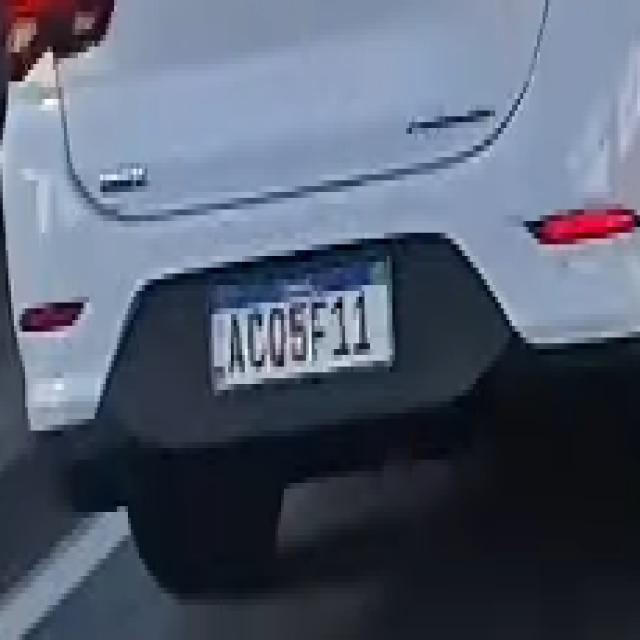Placa_mercosul_carro: (210, 254, 395, 398)
